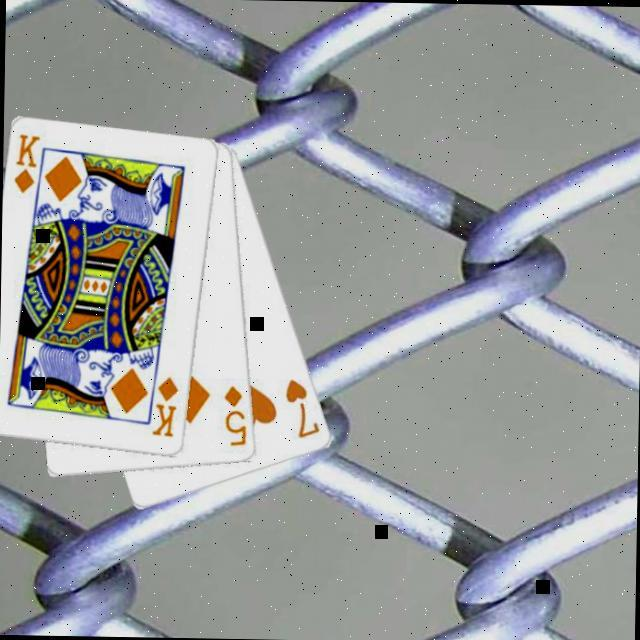5D: (222, 380, 253, 447)
7H: (283, 373, 326, 440)
KD: (151, 370, 184, 439), (12, 128, 45, 195)
